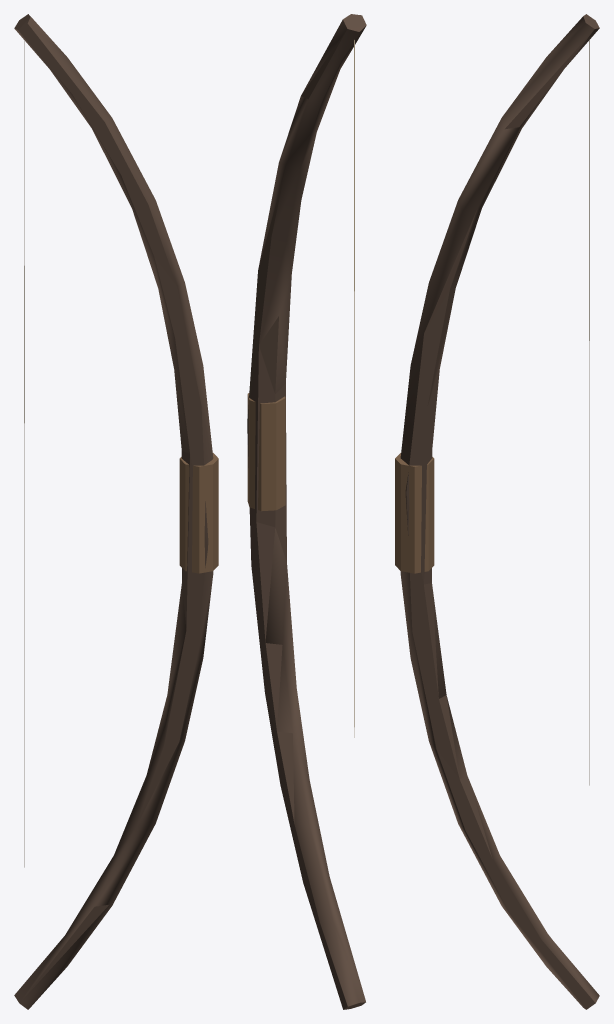
Rendered from composite_bow_lod1.glb.
3 renders of one model, left to right at view 1: azimuth 90°, elevation 25°; view 2: azimuth 210°, elevation 25°; view 3: azimuth 270°, elevation 25°, orthographic.
Visible parts, largest first — view 1: m; view 2: m; view 3: m.
Boxes of the visible parts, <box> form: m: <box>14,14,218,1009</box>; m: <box>247,14,366,1009</box>; m: <box>395,14,599,1009</box>.
Size of the model in its own units: 0.04 by 1.11 by 0.2084.
